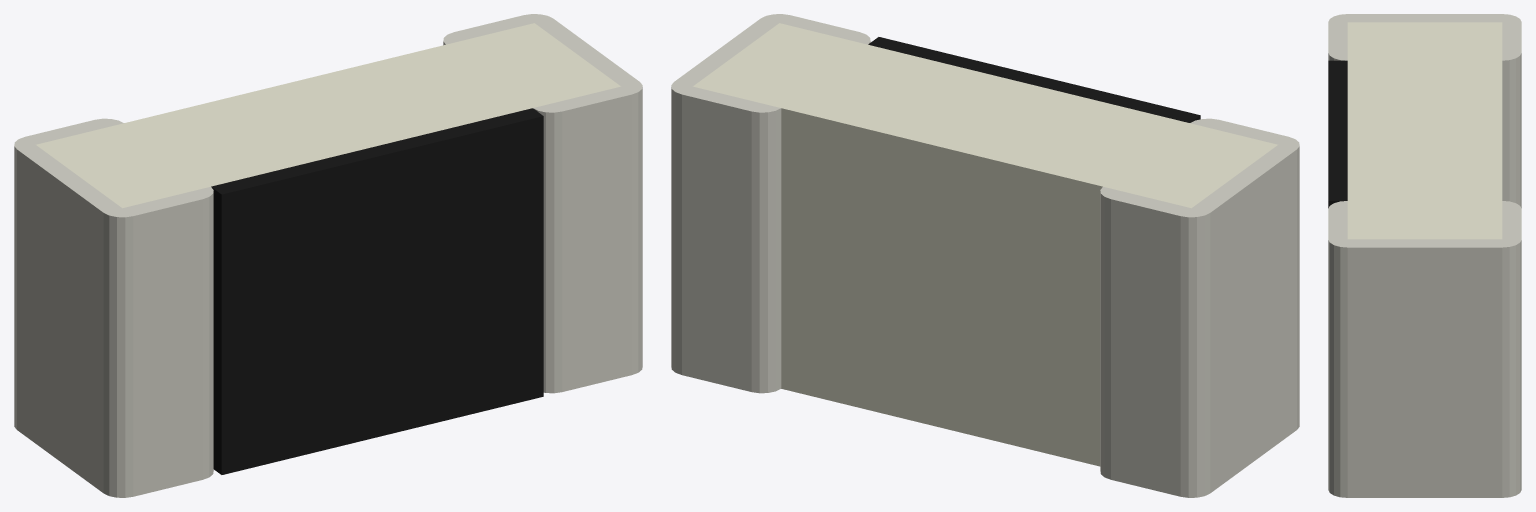
The model's file is R_0402_1005Metric.glb.
3 views of the same model, side by side, from view 1: azimuth 30°, elevation 25°; view 2: azimuth 150°, elevation 25°; view 3: azimuth 270°, elevation 25° (orthographic). The views are drawn at different scales.
Visible parts, largest first — view 1: R_0402_1005Metric_9eea51, R_0402_1005Metric_d6d1de, R_0402_1005Metric_a3d953; view 2: R_0402_1005Metric_a3d953, R_0402_1005Metric_d6d1de, R_0402_1005Metric_9eea51; view 3: R_0402_1005Metric_d6d1de, R_0402_1005Metric_a3d953, R_0402_1005Metric_9eea51.
Boxes of the visible parts, x1,y1,x2,y2 form: R_0402_1005Metric_9eea51: (211, 108, 543, 474); R_0402_1005Metric_d6d1de: (14, 14, 642, 497); R_0402_1005Metric_a3d953: (36, 23, 620, 208); R_0402_1005Metric_a3d953: (693, 23, 1277, 466); R_0402_1005Metric_d6d1de: (671, 14, 1299, 497); R_0402_1005Metric_9eea51: (868, 37, 1200, 122); R_0402_1005Metric_d6d1de: (1328, 14, 1521, 497); R_0402_1005Metric_a3d953: (1347, 22, 1502, 239); R_0402_1005Metric_9eea51: (1328, 60, 1347, 208).
Size of the model in its own units: 0.001 by 0.0005 by 0.00035.
